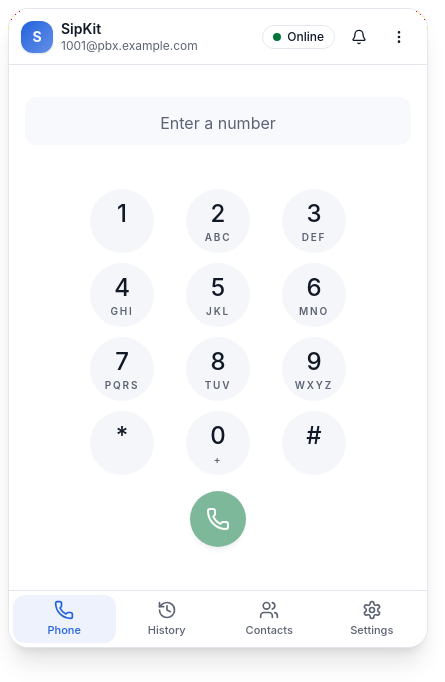
Test: <Softphone /> › dials with the keypad, connects, holds, mutes, sends DTMF and hangs up
The image size is (445, 682).
Later steps or results of the test are not shown.
Click the button "1": (122, 220) 90,188 -> 154,252
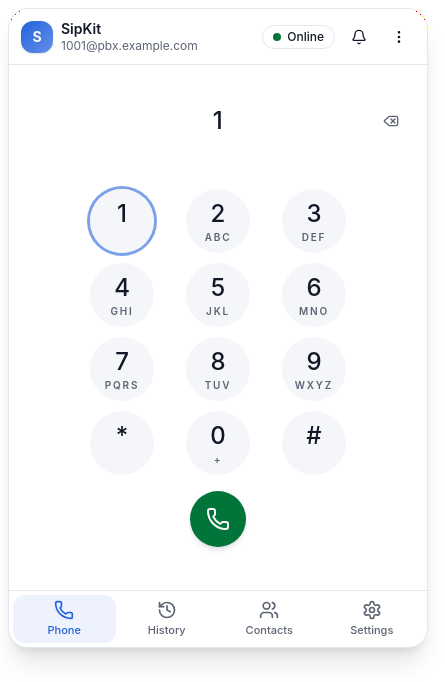
Click the button named "0 (hold for +)": (218, 442) 186,410 -> 250,474
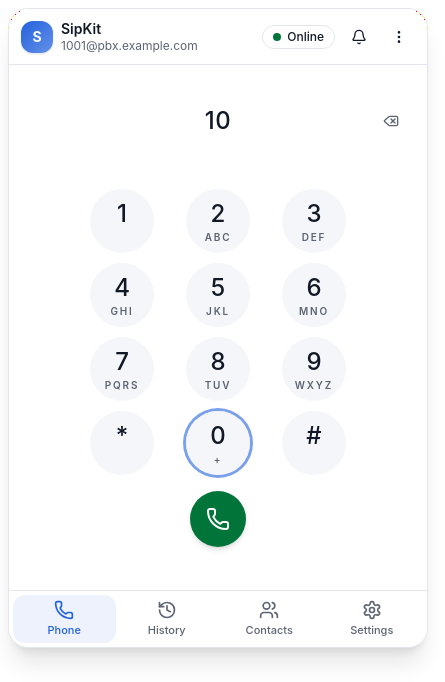
Click the button named "0 (hold for +)": (218, 442) 186,410 -> 250,474
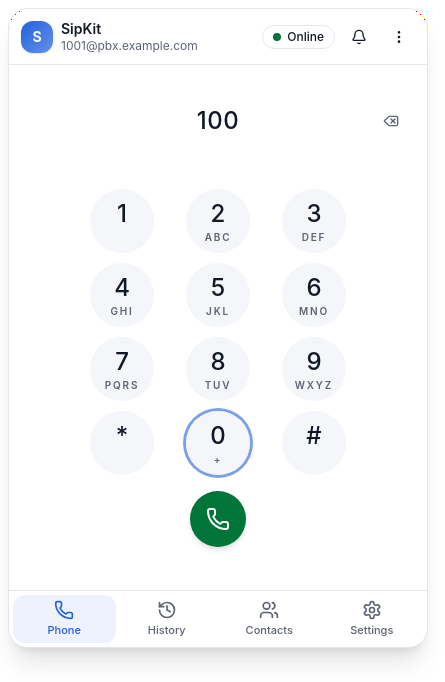
Click the button "2 ABC": (218, 220) 186,188 -> 250,252
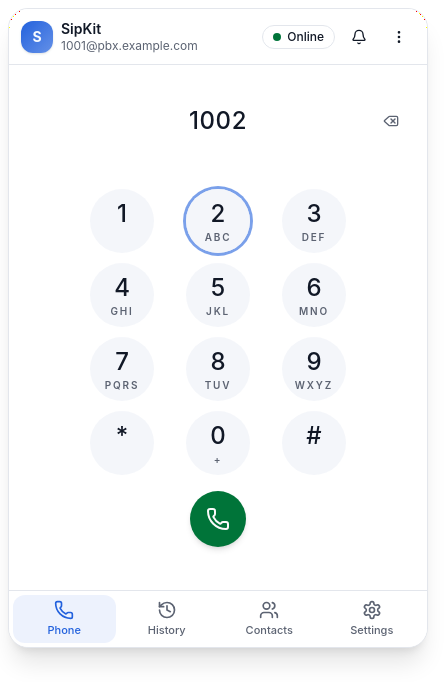
Now the dropdown named "Number to dial" holds "1002", box 25,96 -> 411,144
